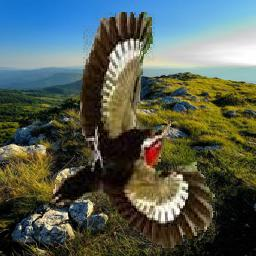Woodpecker: (51, 12, 218, 252)
